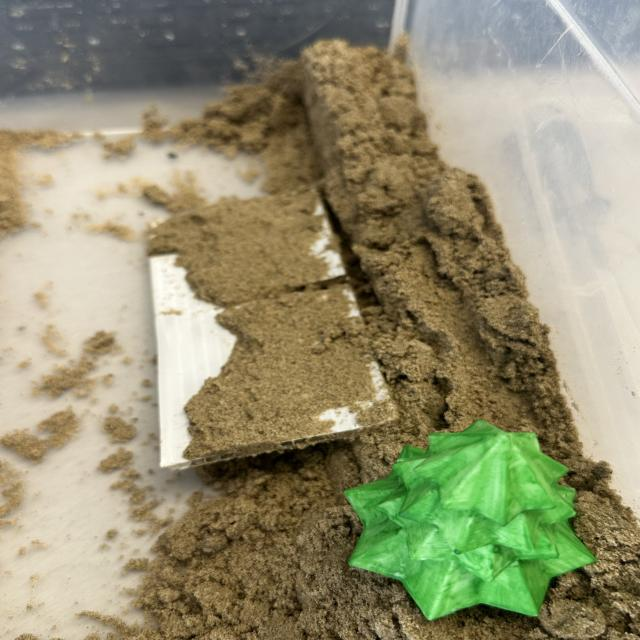tree: (340, 418, 599, 619)
